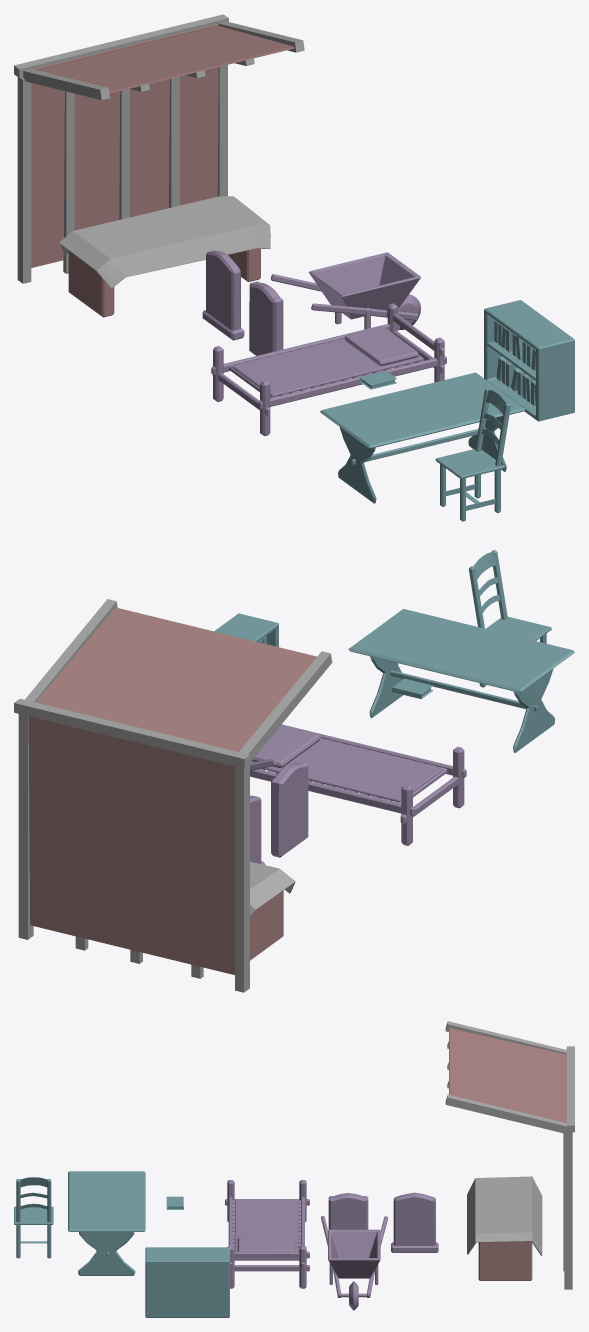
File: Village_Items.fbx
The picture shows the model from 3 angles, top to bottom: view 1: azimuth 30°, elevation 25°; view 2: azimuth 150°, elevation 25°; view 3: azimuth 270°, elevation 25°; orthographic projection. The views are drawn at different scales.
Visible parts, largest first — view 1: Blanket, Cloth, pCube92, Blankettop, Shelves, Sheet, pCube150, pCube139, Table, pCube136, Gravestone_2, pCube143 (+12 smaller); view 2: Blanket, Blankettop, pCube92, Sheet, pCube143, pCube139, Gravestone_2, pCube142, pCube140, pCube93, Table, Pillow (+13 smaller); view 3: Blankettop, Shelves, Cloth, pCube92, Sheet, pCube150, pCube136, Table, pCube94, Gravestone_2, pCube142, pCube141 (+6 smaller).
Part boxes in pixels (box(x1,y1,x2,y2)): Blanket: box(31, 24, 218, 267); Cloth: box(58, 196, 270, 288); pCube92: box(320, 372, 525, 448); Blankettop: box(38, 26, 294, 93); Shelves: box(484, 300, 574, 421); Sheet: box(232, 338, 423, 396); pCube150: box(309, 252, 421, 319); pCube139: box(17, 77, 31, 283); Table: box(68, 249, 260, 317); pCube136: box(206, 250, 240, 330); Gravestone_2: box(249, 281, 283, 355); pCube143: box(14, 14, 228, 77); Blanket: box(28, 716, 234, 974); Blankettop: box(36, 607, 316, 751); pCube92: box(348, 609, 574, 692); Sheet: box(250, 738, 443, 801); pCube143: box(14, 698, 250, 768); pCube139: box(235, 765, 249, 992); Gravestone_2: box(271, 760, 308, 857); pCube142: box(18, 714, 33, 939); pCube140: box(239, 651, 332, 761); pCube93: box(513, 668, 554, 752); Table: box(250, 890, 283, 960); Pillow: box(251, 725, 320, 767); Blankettop: box(449, 1028, 564, 1122); Shelves: box(145, 1247, 229, 1317); Cloth: box(467, 1176, 542, 1255); pCube92: box(68, 1171, 145, 1231); Sheet: box(235, 1199, 297, 1251); pCube150: box(328, 1229, 380, 1278); pCube136: box(393, 1192, 435, 1245); Table: box(478, 1241, 532, 1280); pCube94: box(78, 1232, 135, 1275); Gravestone_2: box(328, 1193, 368, 1229); pCube142: box(564, 1132, 572, 1289); pCube141: box(445, 1094, 571, 1134).
Size of the model in its own units: 351 by 301 by 778.
